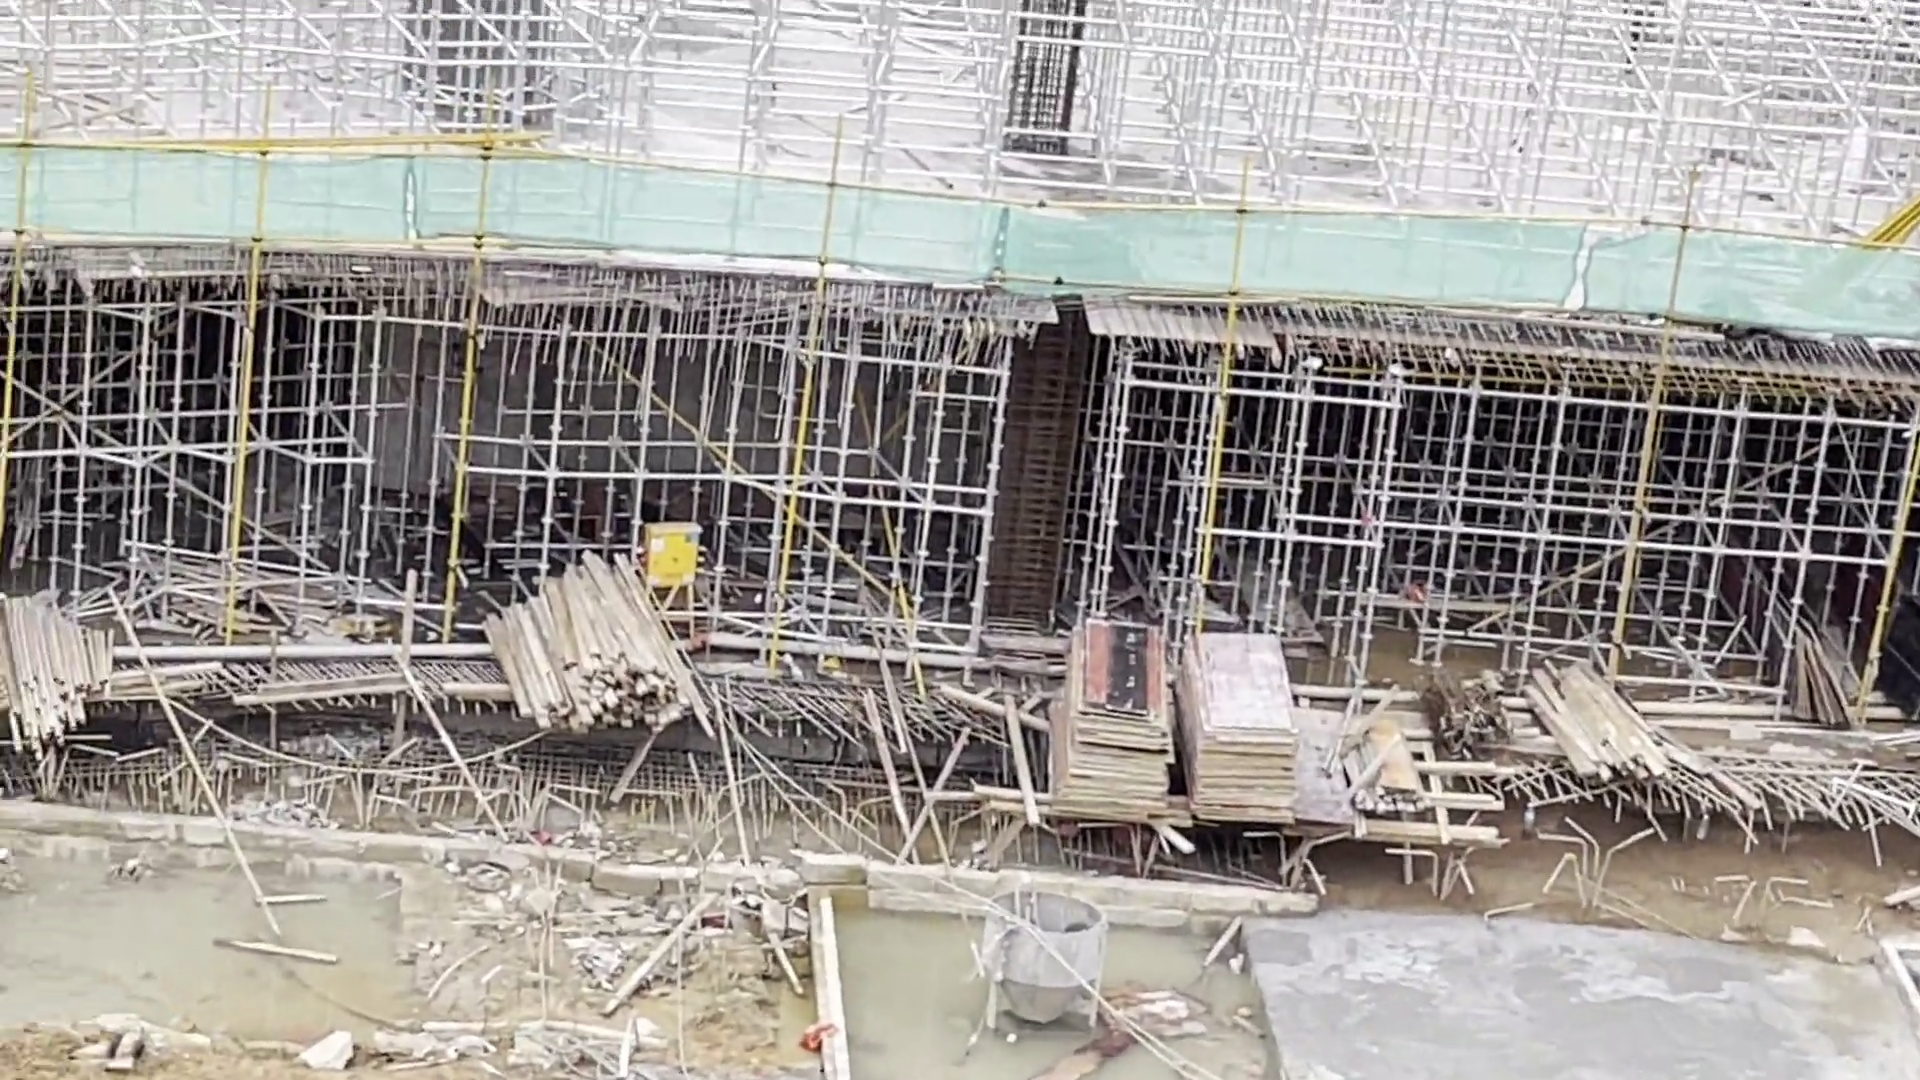board: (1054, 625, 1300, 828)
ebox: (637, 518, 702, 585)
wood: (485, 559, 709, 732), (1523, 669, 1688, 793)
